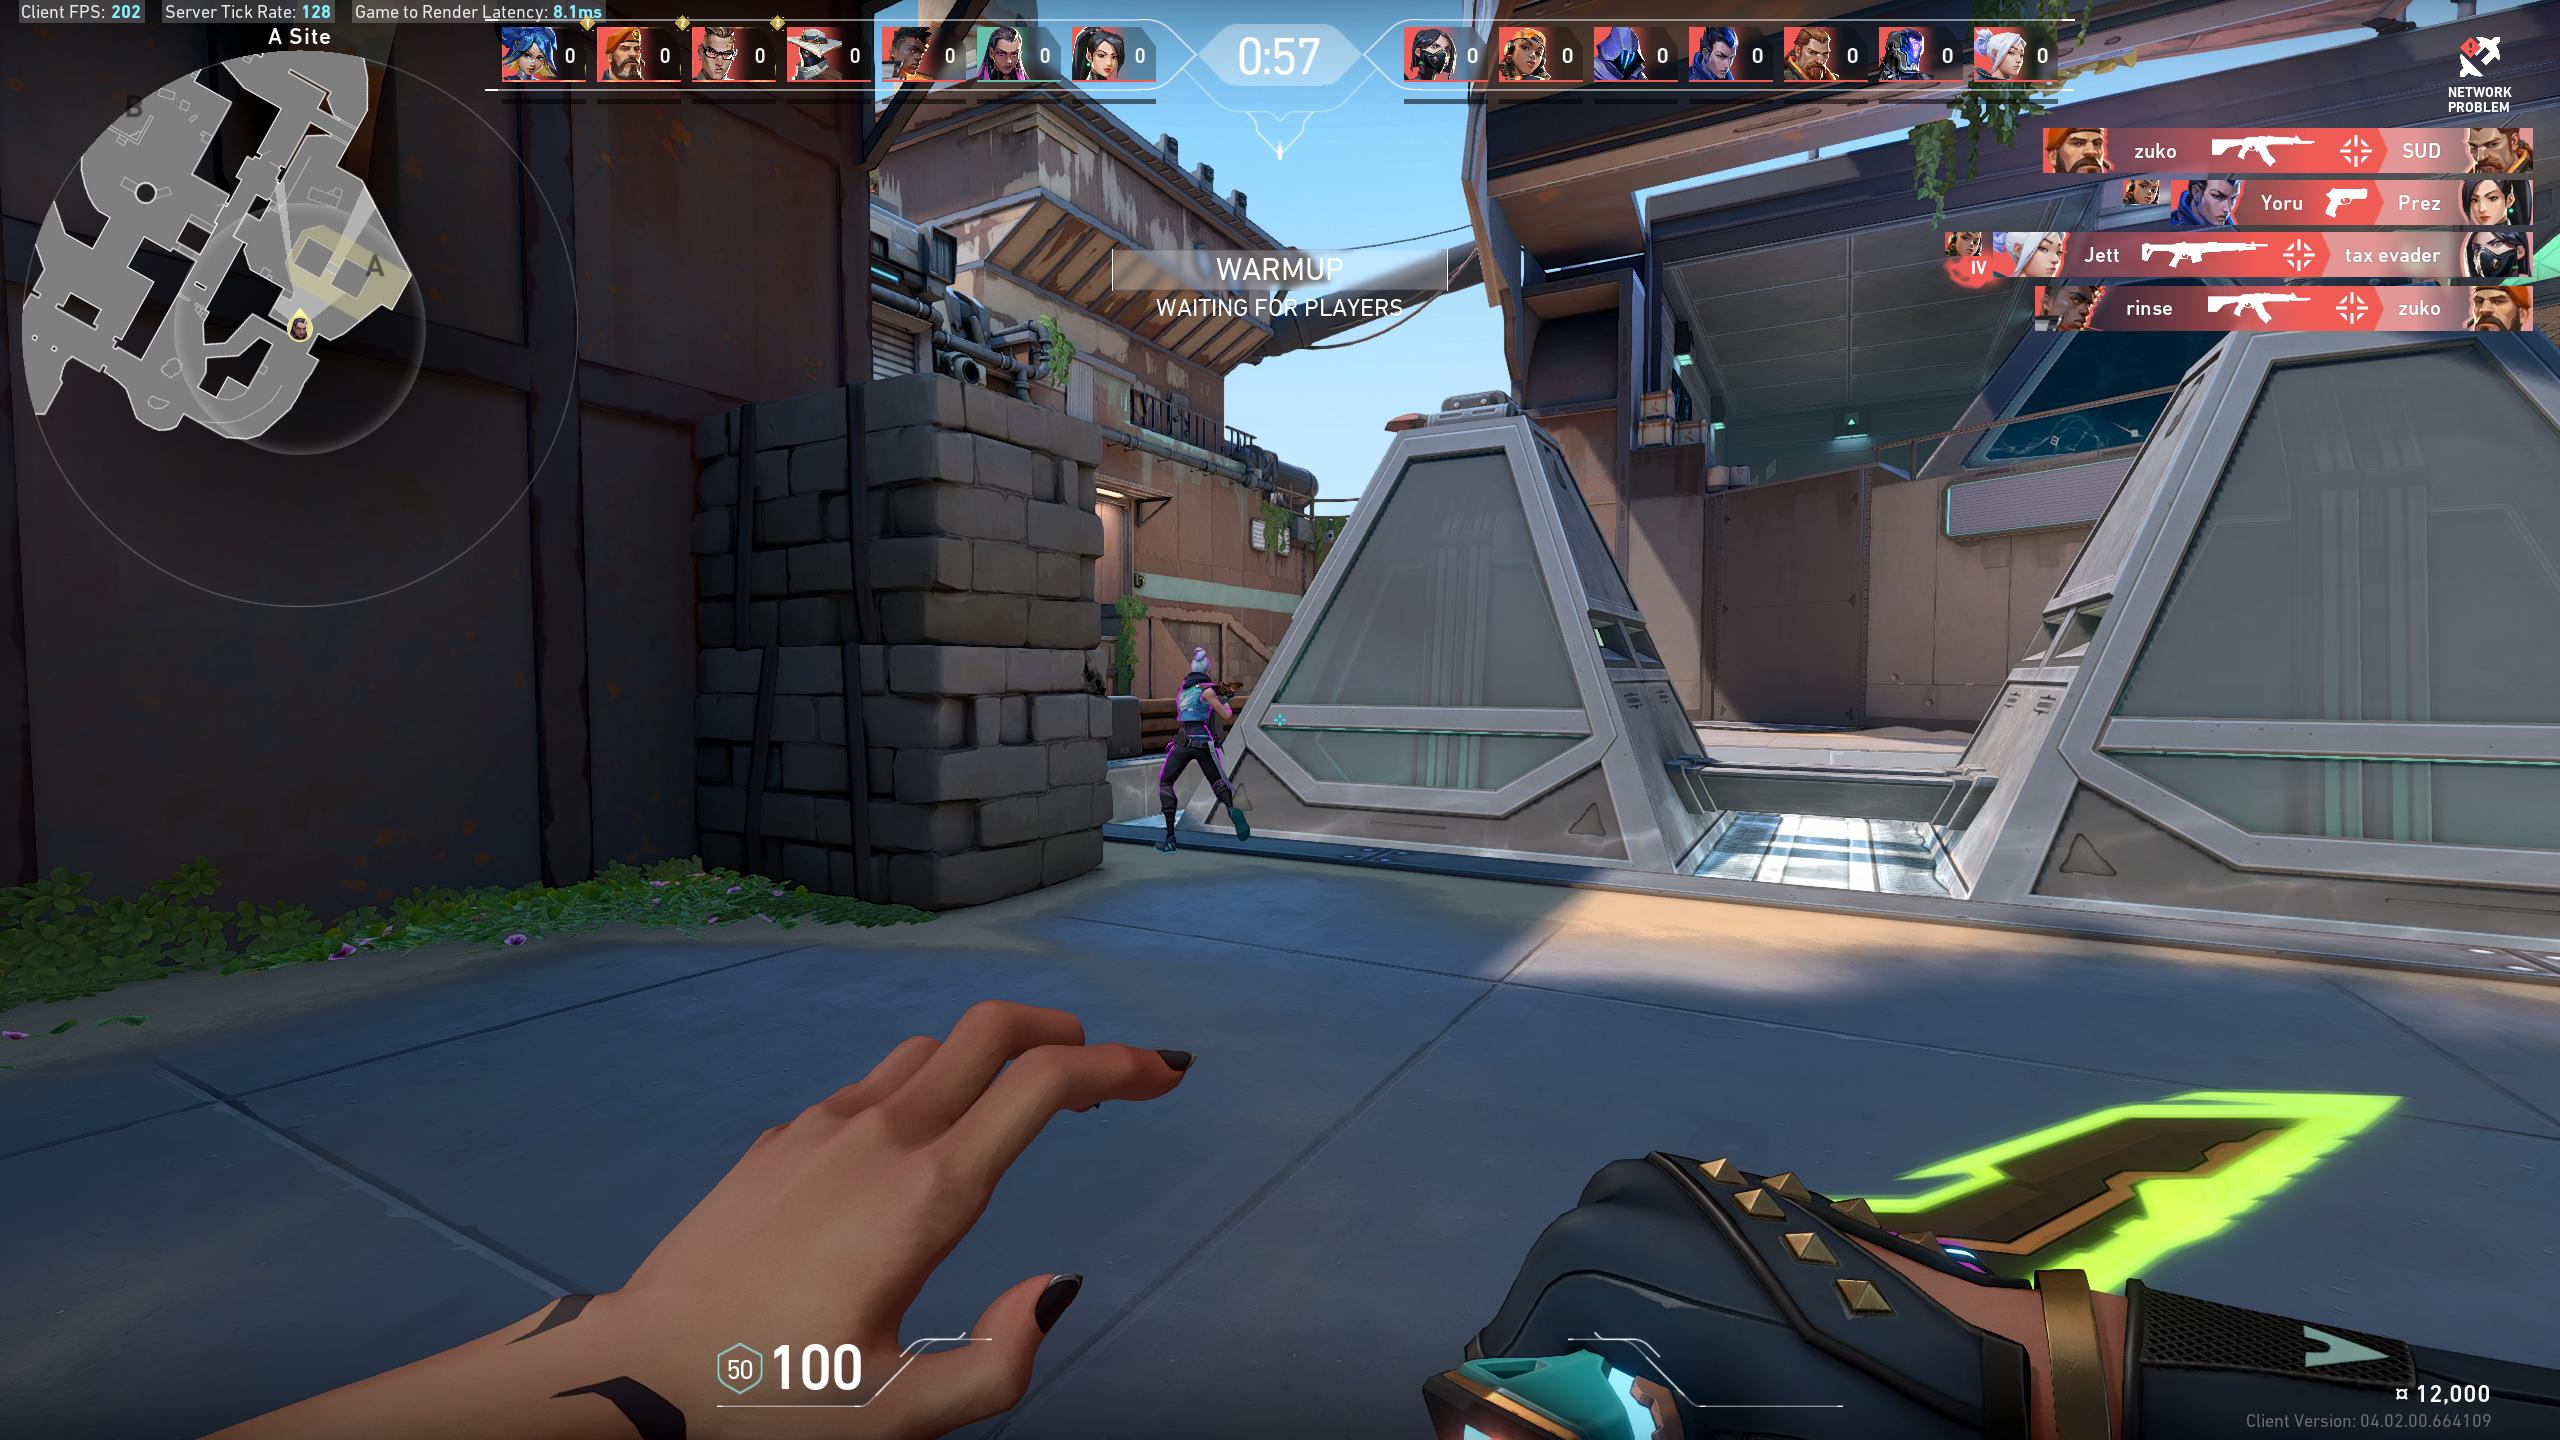enemyBody: (1183, 680, 1201, 723)
enemyHead: (1196, 659, 1204, 670)
